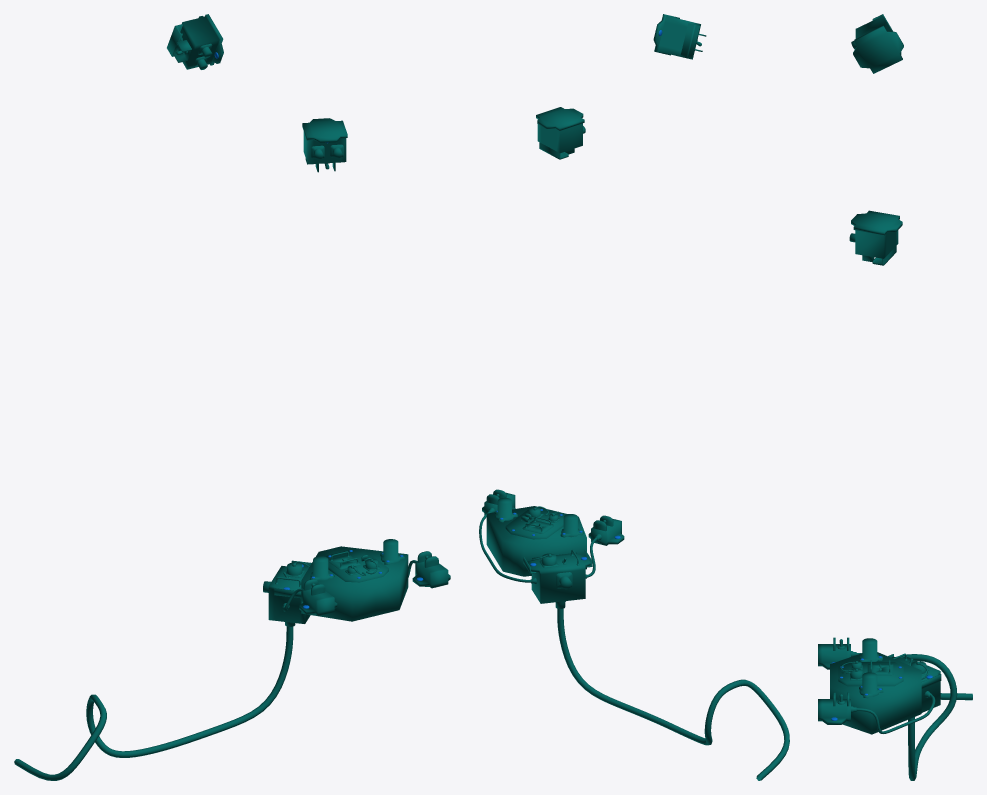
File: Electronics.fbx
3 views of the same model, side by side, from view 1: azimuth 30°, elevation 25°; view 2: azimuth 150°, elevation 25°; view 3: azimuth 270°, elevation 25° (orthographic). The views are drawn at different scales.
Parts seen in each view (by area): view 1: Electronics; view 2: Electronics; view 3: Electronics.
Boxes of the visible parts, <box> form: Electronics: <box>14,14,450,780</box>; Electronics: <box>479,14,789,780</box>; Electronics: <box>818,14,972,780</box>.
Bounding box in the file's own units: 60.12 × 118 × 22.28.
